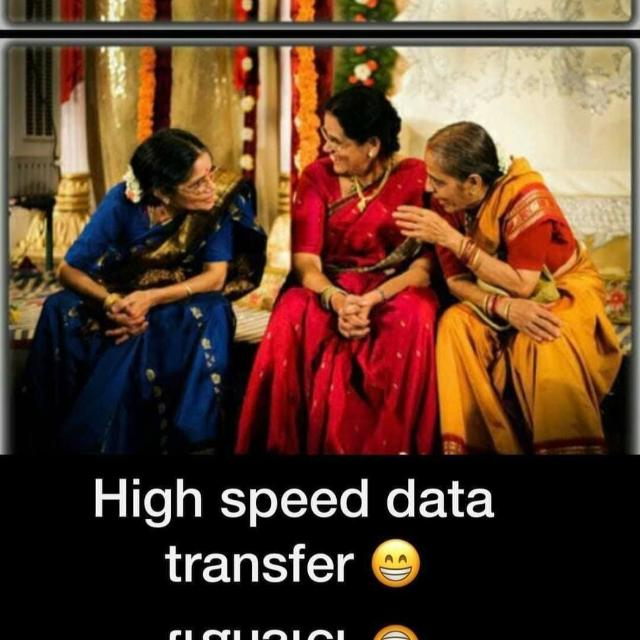person: (256, 92, 444, 484), (422, 117, 622, 426), (85, 114, 247, 420)
